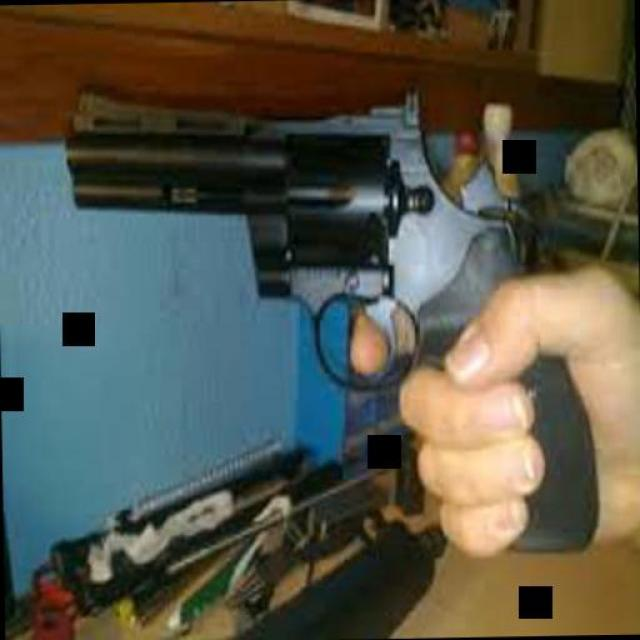gun: (60, 67, 606, 574)
